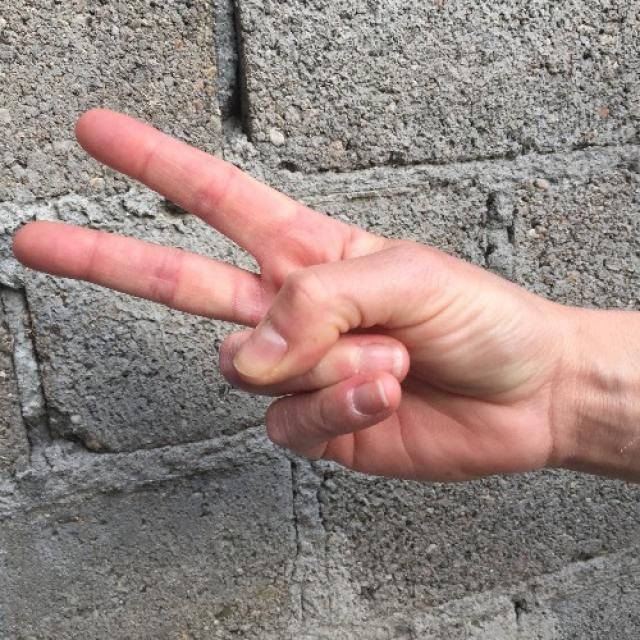scissors: (14, 108, 542, 482)
